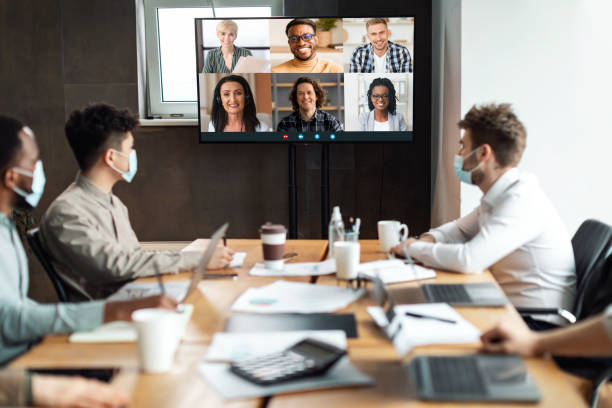with mask: (76, 109, 139, 184), (1, 126, 50, 214), (449, 127, 500, 186)
without mask: (221, 79, 247, 115), (296, 77, 322, 113), (366, 17, 392, 53), (289, 21, 315, 57), (216, 18, 242, 54), (367, 81, 393, 117)
